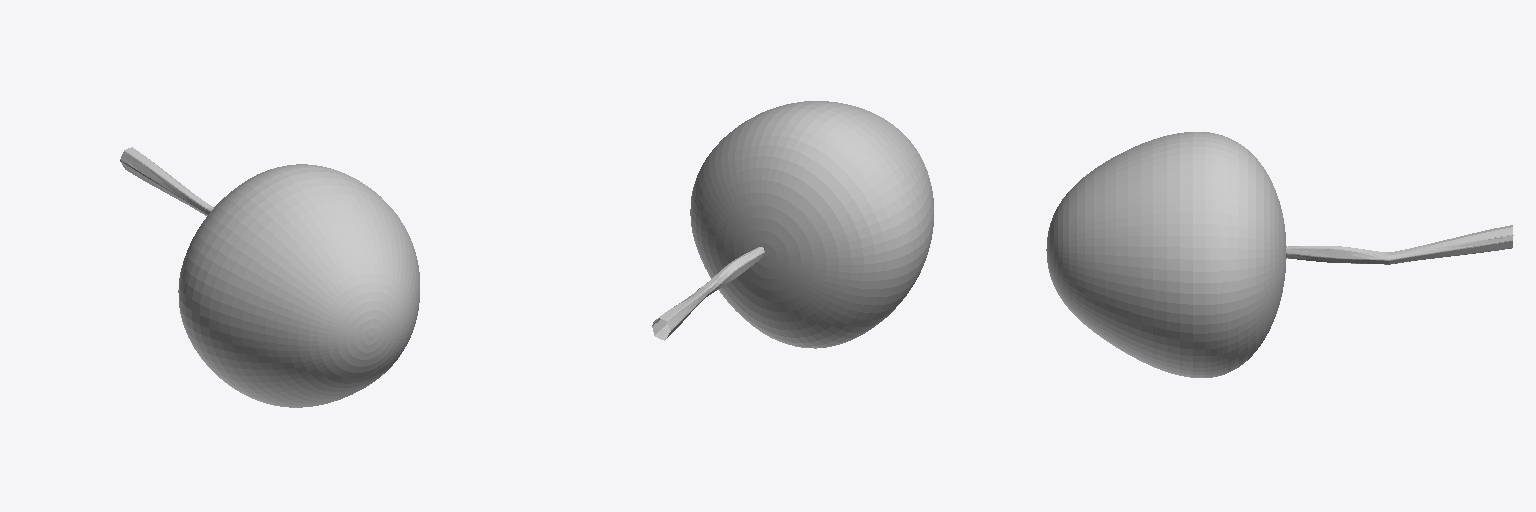
The model's file is Tree2.obj.
The picture shows the model from 3 angles: view 1: azimuth 30°, elevation 25°; view 2: azimuth 150°, elevation 25°; view 3: azimuth 270°, elevation 25°; orthographic projection.
Size of the model in its own units: 0.6947 by 0.7 by 1.3.